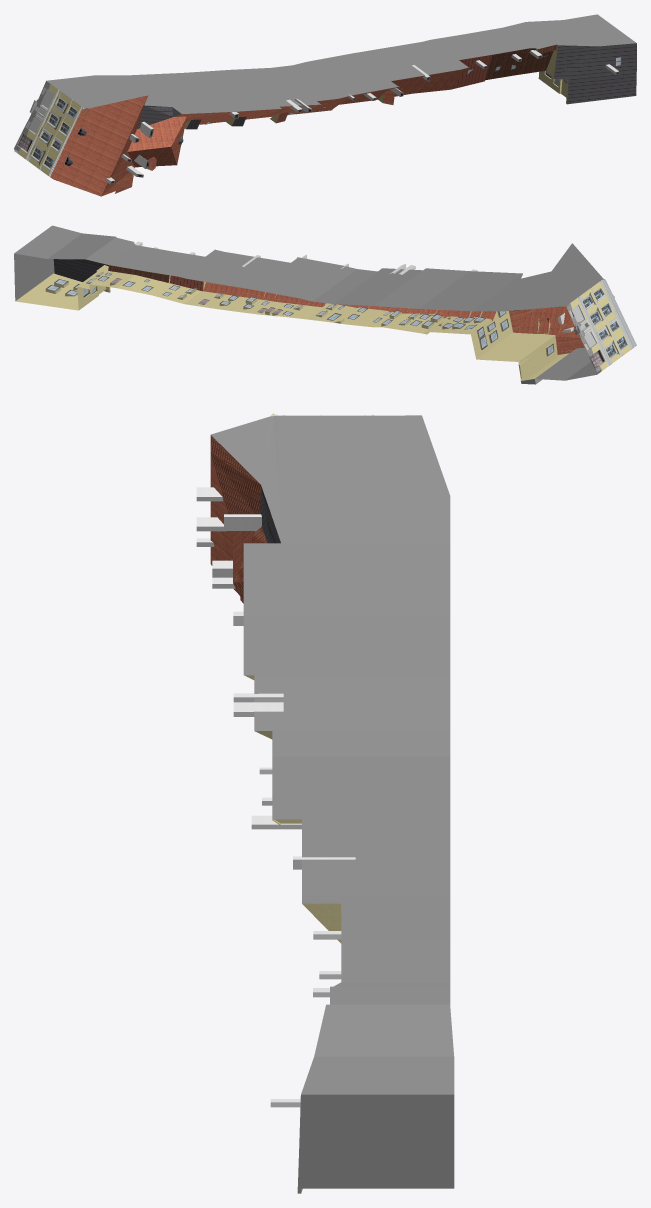
The model's file is Vene_10_1-origo.obj.
3 renders of one model, top to bottom at view 1: azimuth 30°, elevation 25°; view 2: azimuth 150°, elevation 25°; view 3: azimuth 270°, elevation 25°, orthographic. The views are drawn at different scales.
Visible parts, largest first — view 1: Vene_10_1; view 2: Vene_10_1; view 3: Vene_10_1.
Part boxes in pixels (<box>): Vene_10_1: <box>14,14,636,196</box>; Vene_10_1: <box>14,225,636,384</box>; Vene_10_1: <box>196,413,454,1193</box>.
Size of the model in its own units: 114 by 26 by 22.04.
